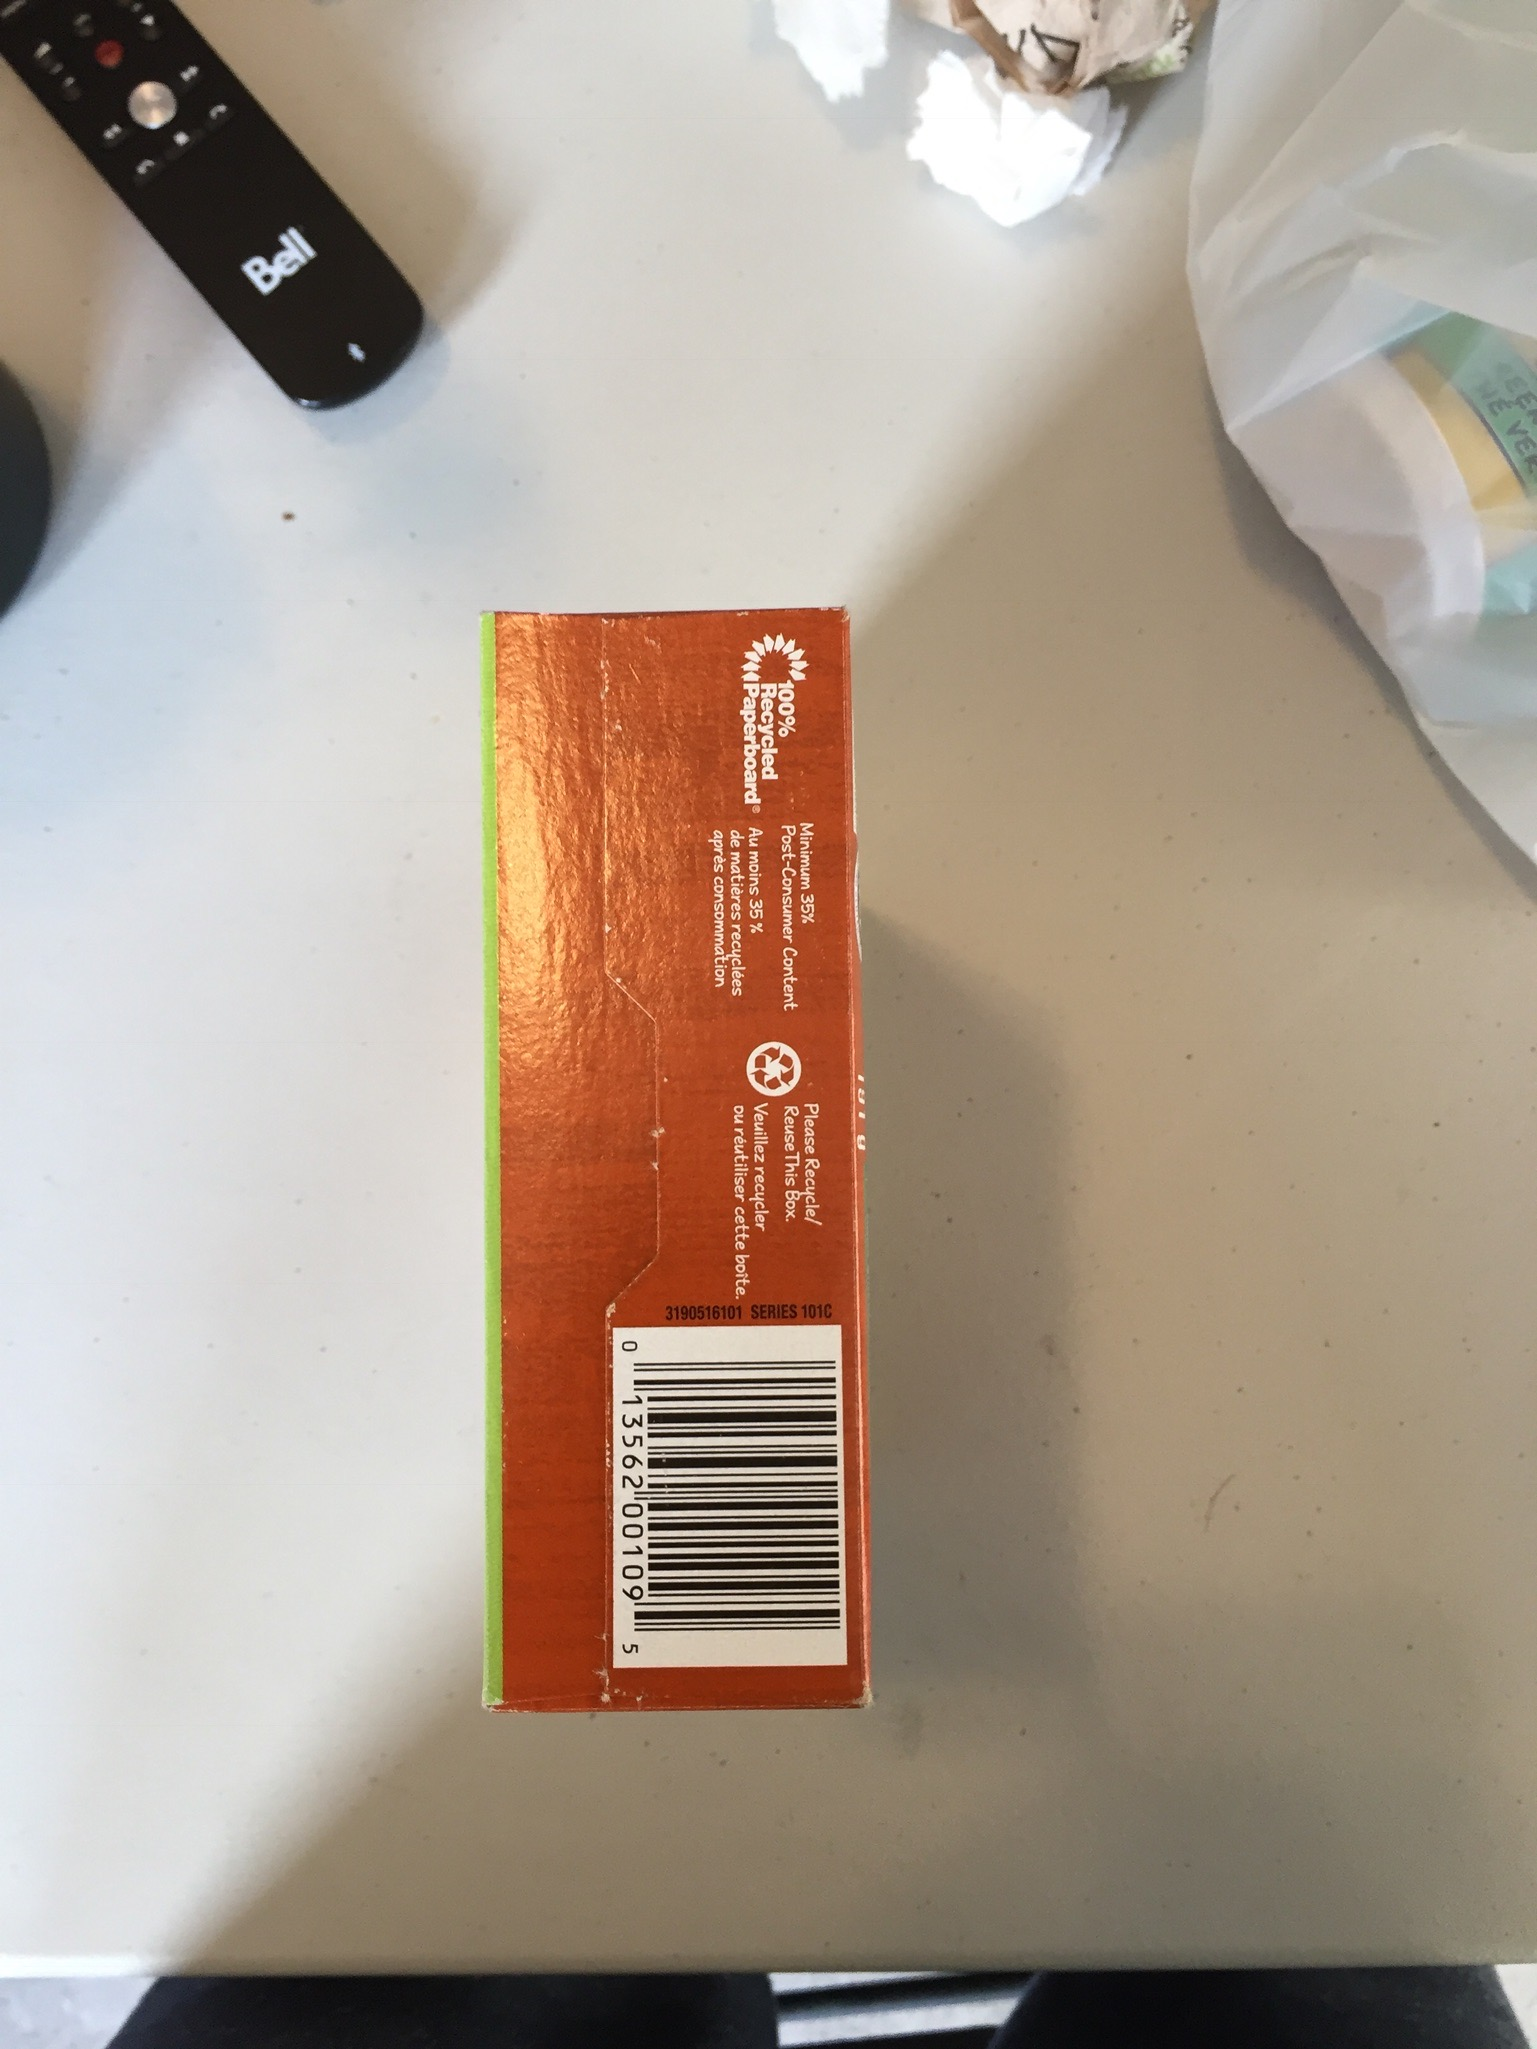annies_snickerdoodles_cinnamon_sugar: (496, 618, 873, 1712)
